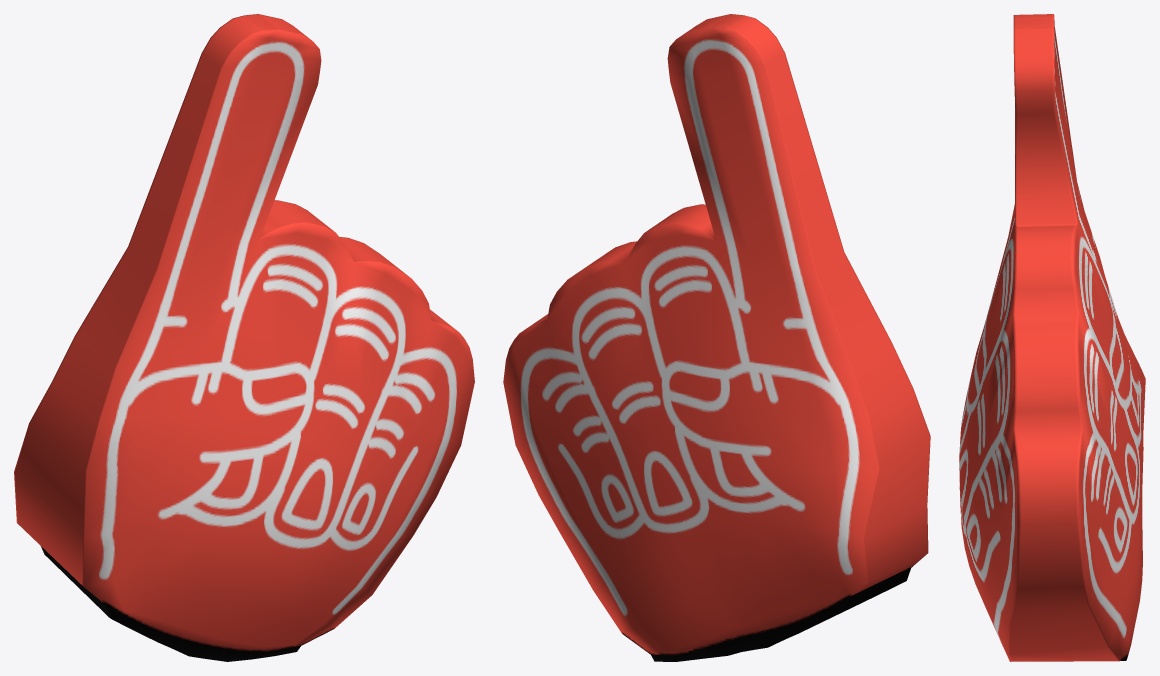
Rendered from FoamFinger.glb.
3 views of the same model, side by side, from view 1: azimuth 30°, elevation 25°; view 2: azimuth 150°, elevation 25°; view 3: azimuth 270°, elevation 25° (orthographic). The views are drawn at different scales.
Visible parts, largest first — view 1: FoamFinger_low; view 2: FoamFinger_low; view 3: FoamFinger_low.
Boxes of the visible parts, left/top/right/bottom form: FoamFinger_low: left=14, top=14, right=474, bottom=661; FoamFinger_low: left=503, top=14, right=930, bottom=661; FoamFinger_low: left=959, top=14, right=1145, bottom=661.
Size of the model in its own units: 0.00635 by 0.00954 by 0.00258.
Materials: 1 (1 with a texture image).
